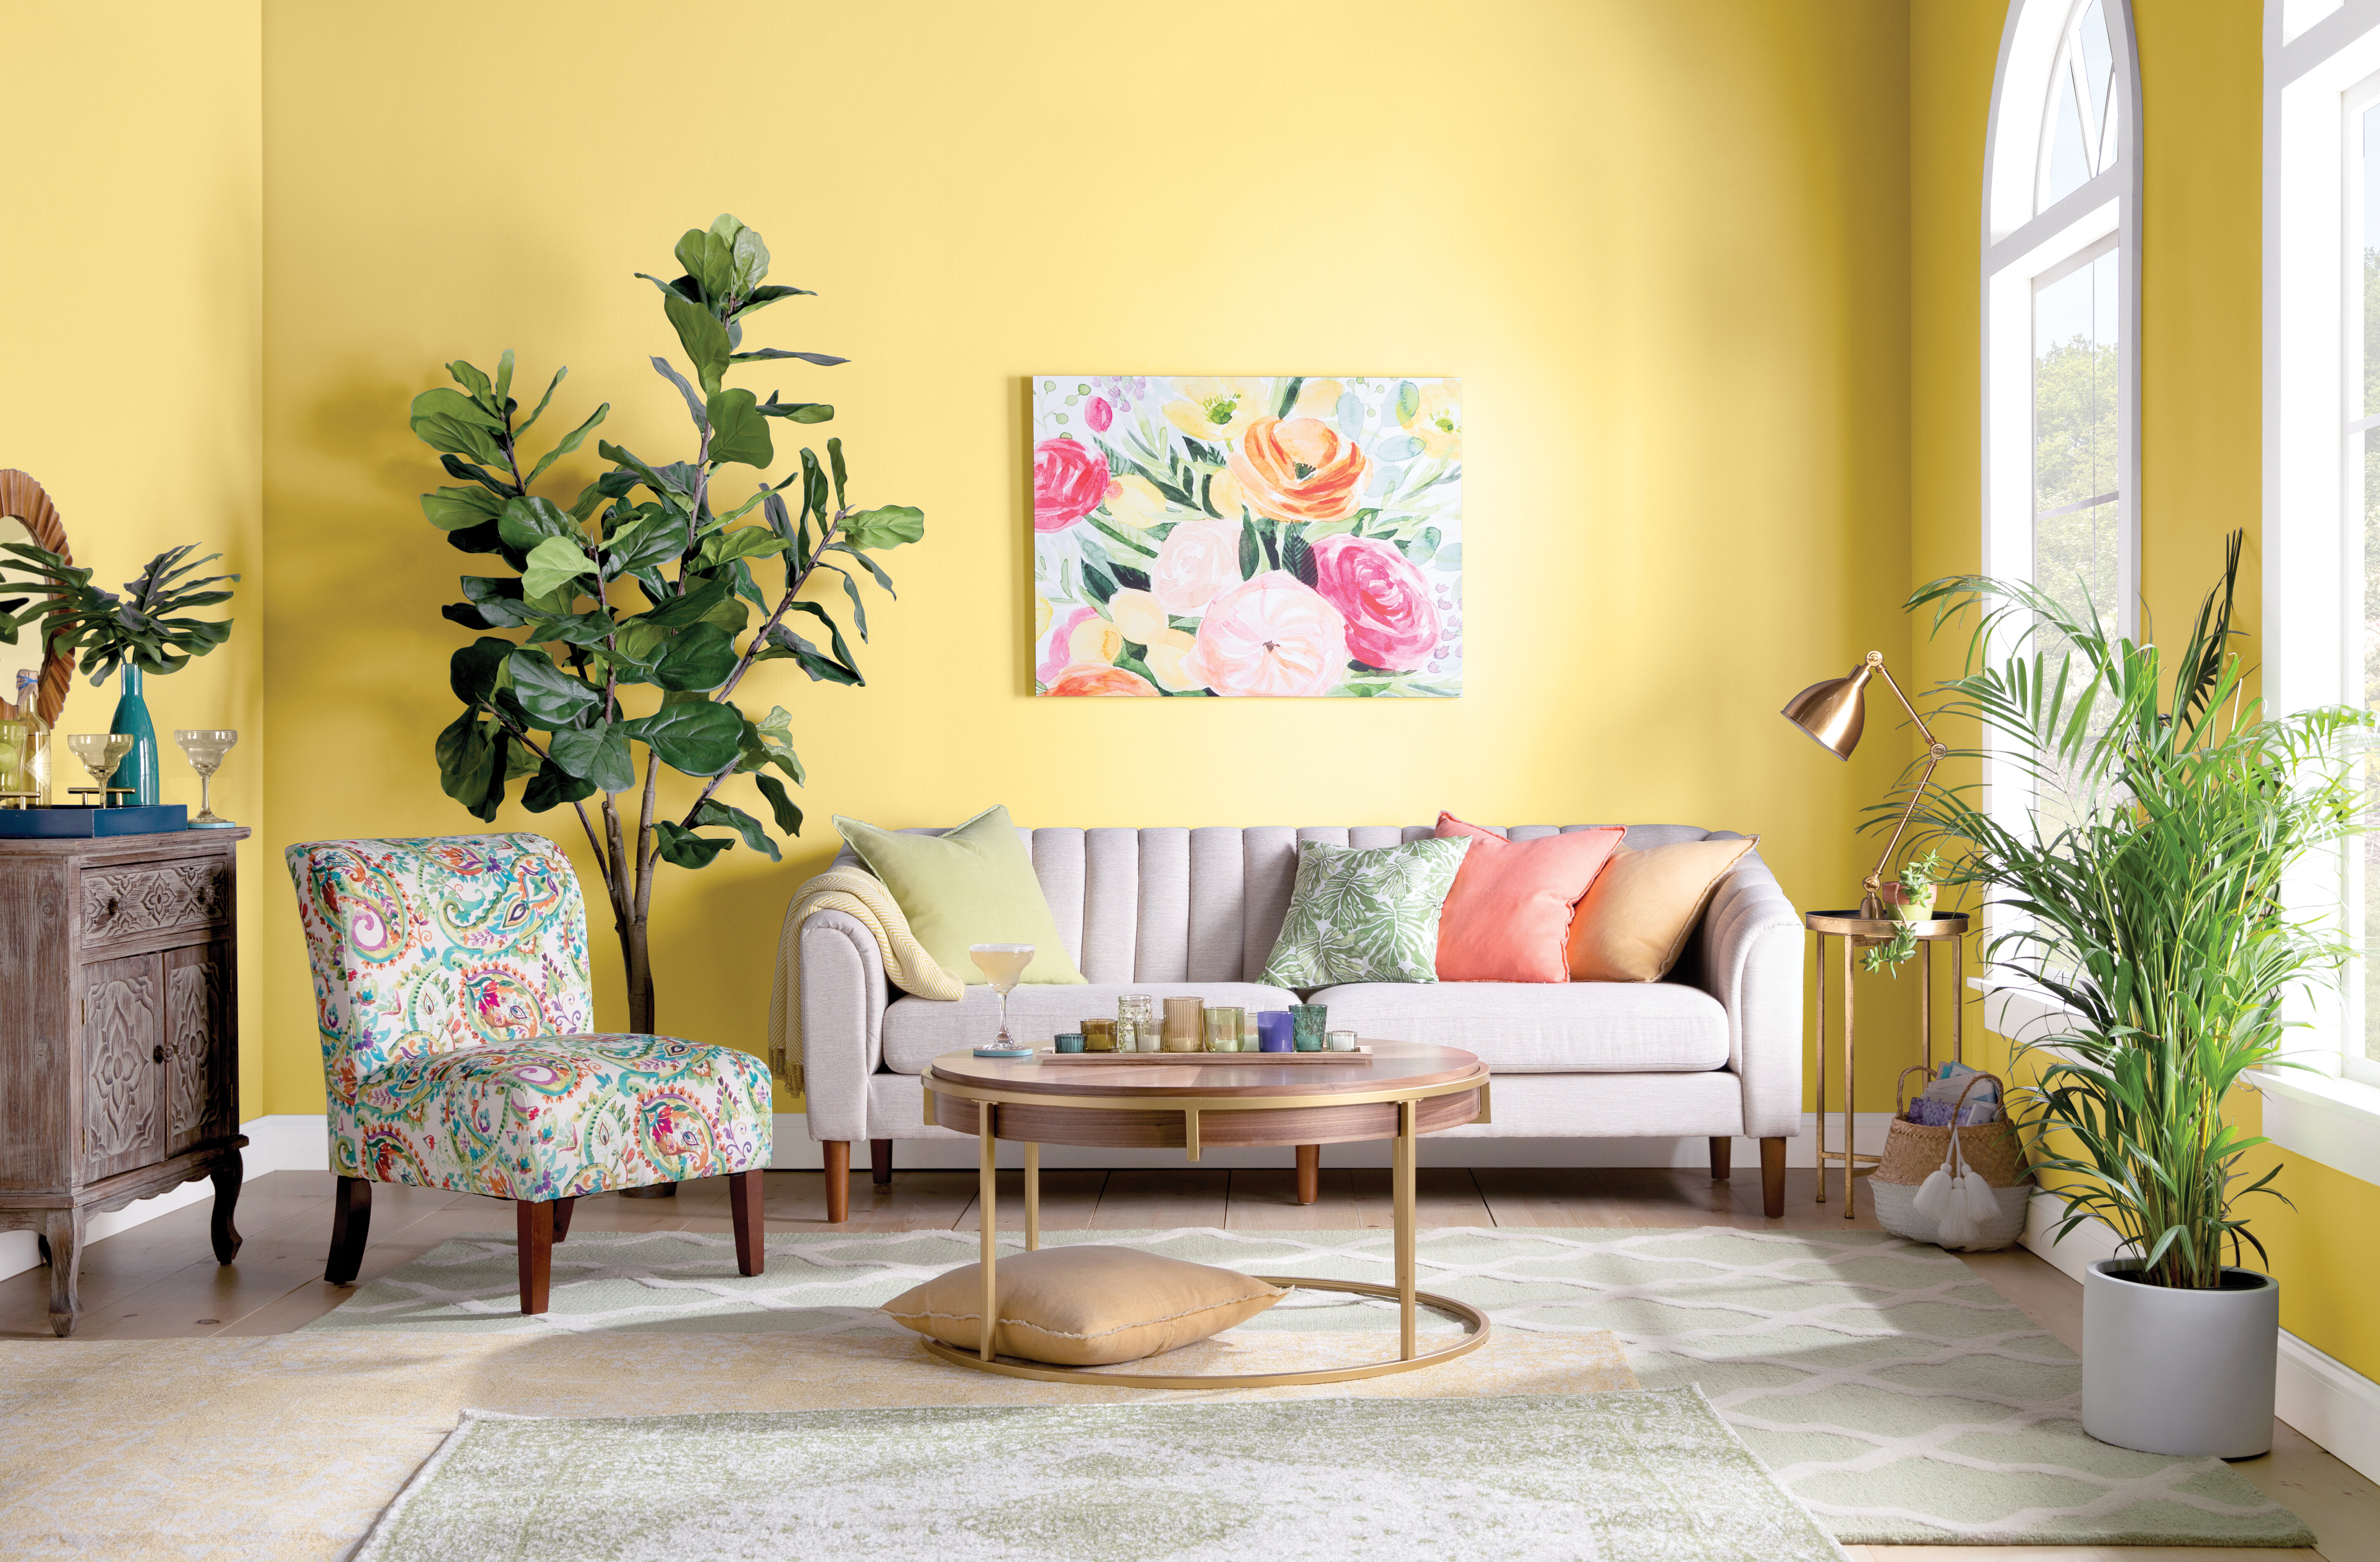coklat: (0, 840, 246, 1192), (933, 1051, 1499, 1140)
hijau: (108, 664, 160, 804)
pink: (1442, 837, 1599, 985)
